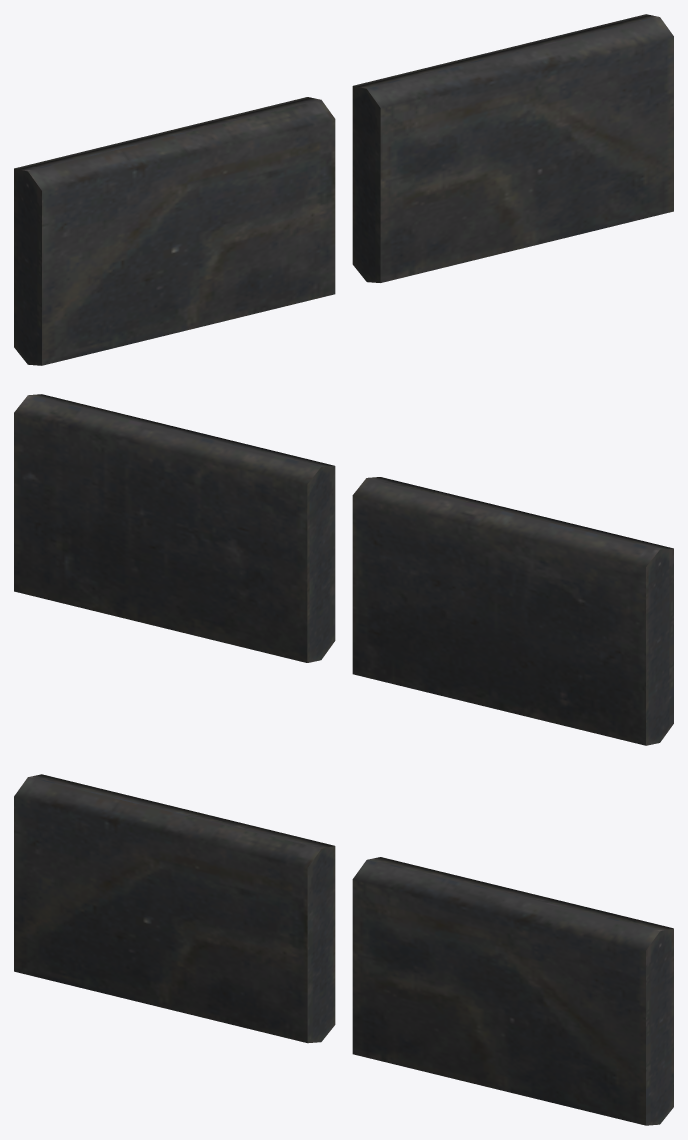
The picture shows the model from 3 angles, top to bottom: view 1: azimuth 30°, elevation 25°; view 2: azimuth 150°, elevation 25°; view 3: azimuth 330°, elevation 25°; orthographic projection.
Parts seen in each view (by area): view 1: set_0_group_0; view 2: set_0_group_0; view 3: set_0_group_0.
Part boxes in pixels (x1=…): set_0_group_0: x1=14, y1=14, x2=673, y2=365; set_0_group_0: x1=14, y1=394, x2=673, y2=745; set_0_group_0: x1=14, y1=774, x2=673, y2=1125.
Bounding box in the file's own units: 0.4896 × 0.1432 × 0.0374.
1 material, 1 textured.
